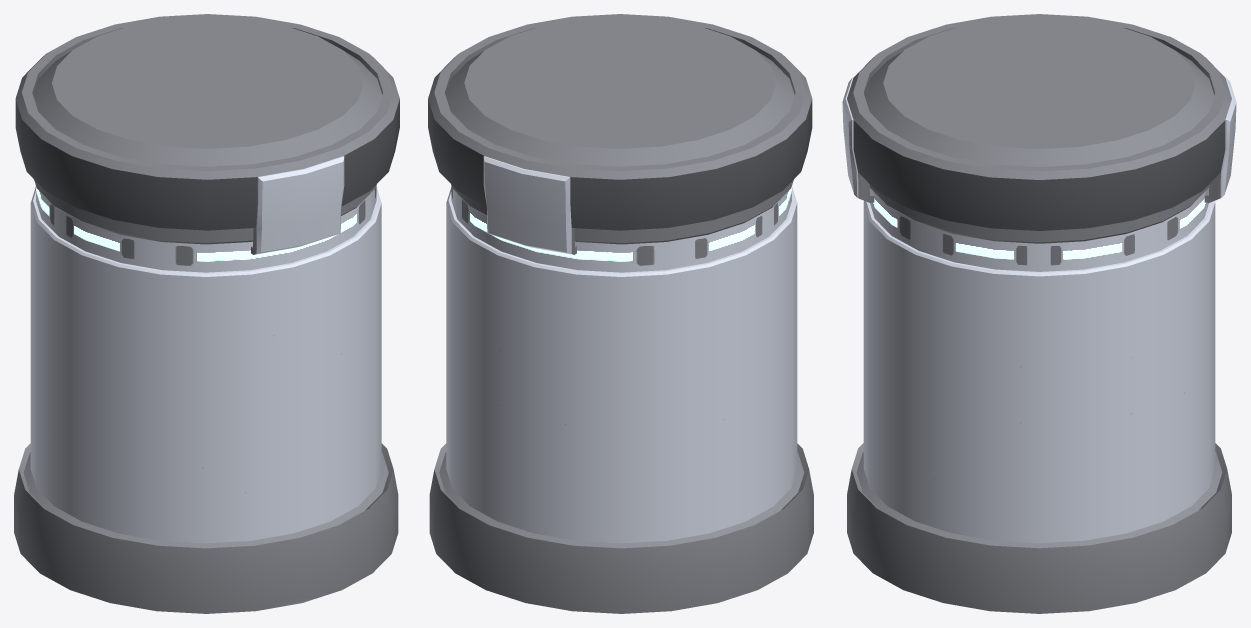
The model's file is bin01.fbx.
The picture shows the model from 3 angles, left to right: view 1: azimuth 30°, elevation 25°; view 2: azimuth 150°, elevation 25°; view 3: azimuth 270°, elevation 25°; orthographic projection.
Parts seen in each view (by area): view 1: bin_1, bin_lid_1; view 2: bin_1, bin_lid_1; view 3: bin_1, bin_lid_1.
Part boxes in pixels (<box>): bin_1: <box>14,180,398,613</box>; bin_lid_1: <box>15,14,399,254</box>; bin_1: <box>429,180,813,613</box>; bin_lid_1: <box>428,14,812,254</box>; bin_1: <box>847,184,1231,613</box>; bin_lid_1: <box>842,14,1236,230</box>.
Bounding box in the file's own units: 53.12 × 68.21 × 54.1.
